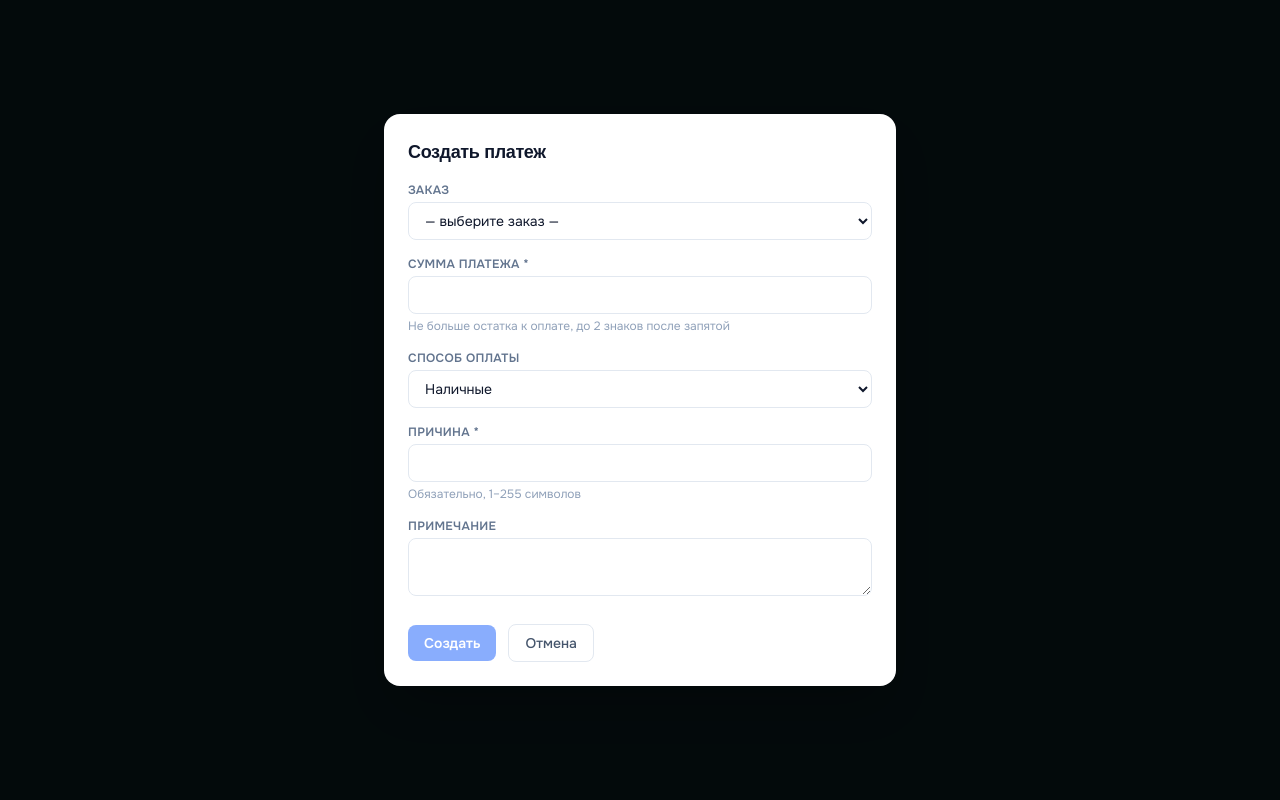
Scenario: CreatePaymentForm — successful POST (AC-8/AC-9, §9) › POST /finance/payments: amount отправляется (default = Осталось), currency/bookingId — нет
Select "MKT-ORD-0001 · 1 250,00 AZN" in the dropdown with test id "create-payment-order-select" at coordinates (640, 221), box [408,202,872,240]
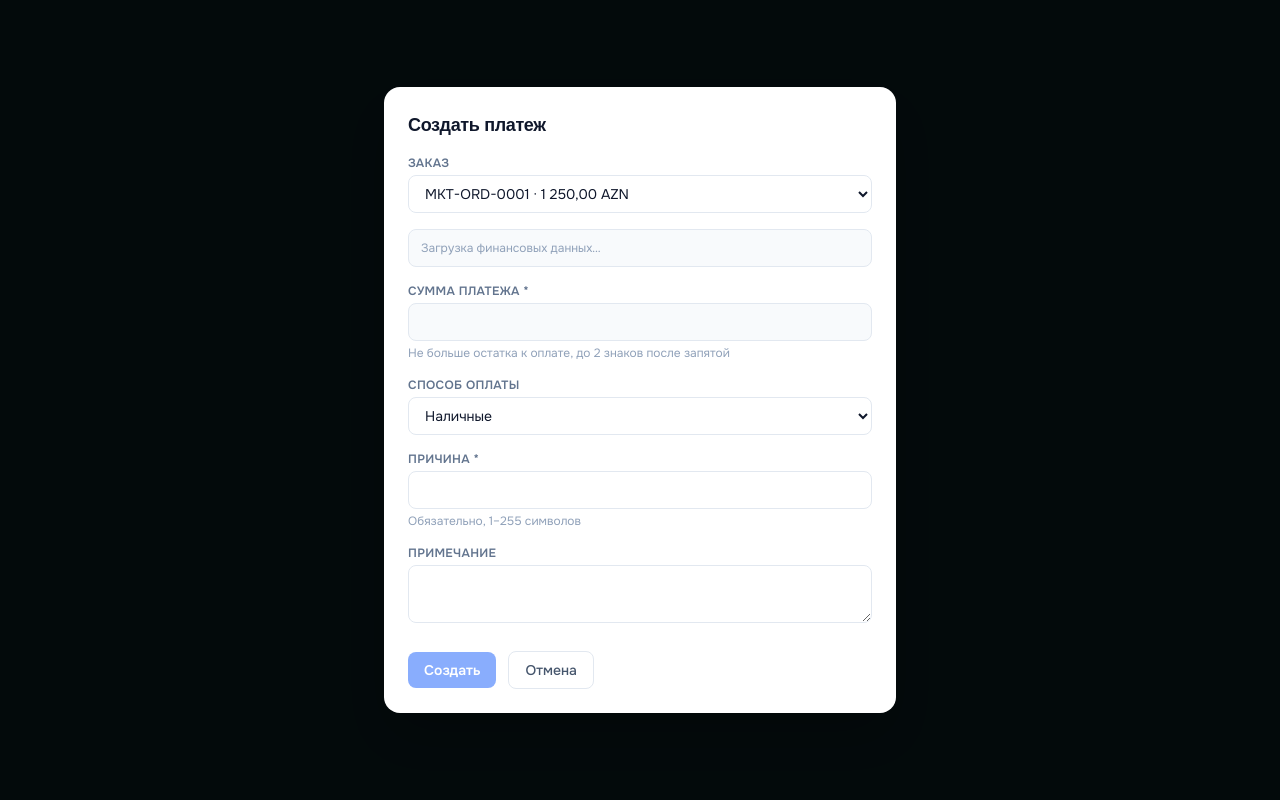
Type "Оплата наличными" into the field with test id "create-payment-reason".
click(640, 490); type("Оплата наличными")  # box [408,471,872,509]
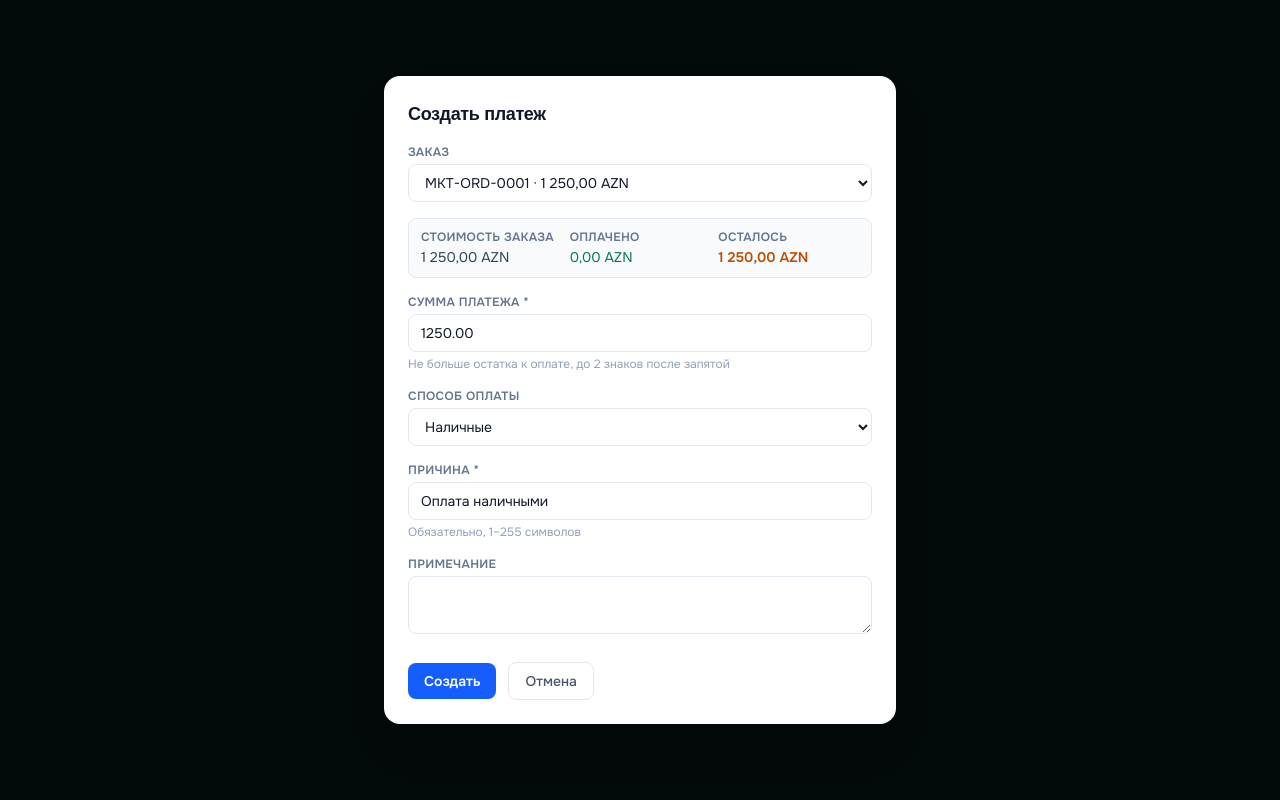
Now the button with test id "create-payment-submit" is enabled
Click the button with test id "create-payment-submit".
click(452, 681)  # box [408,663,496,699]
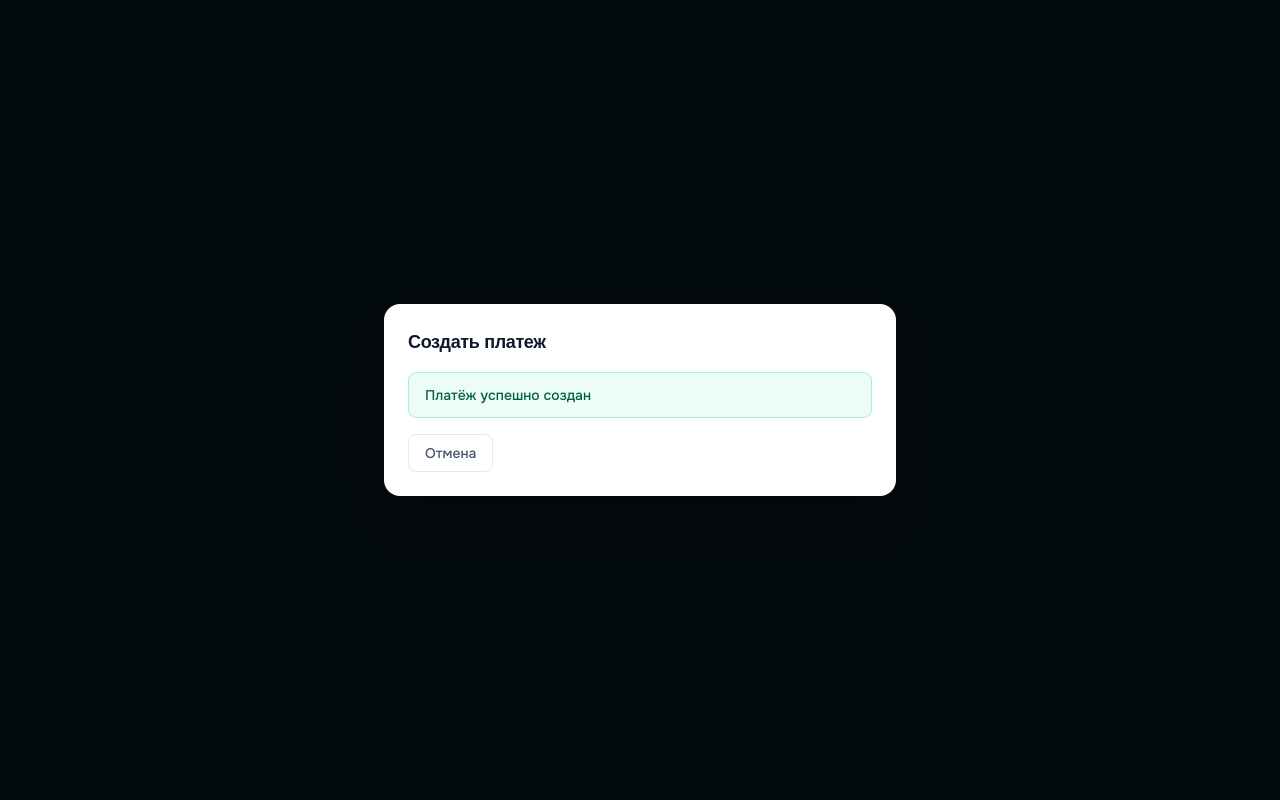
Now the text "Платёж успешно создан" is shown, box [408,372,872,418]
